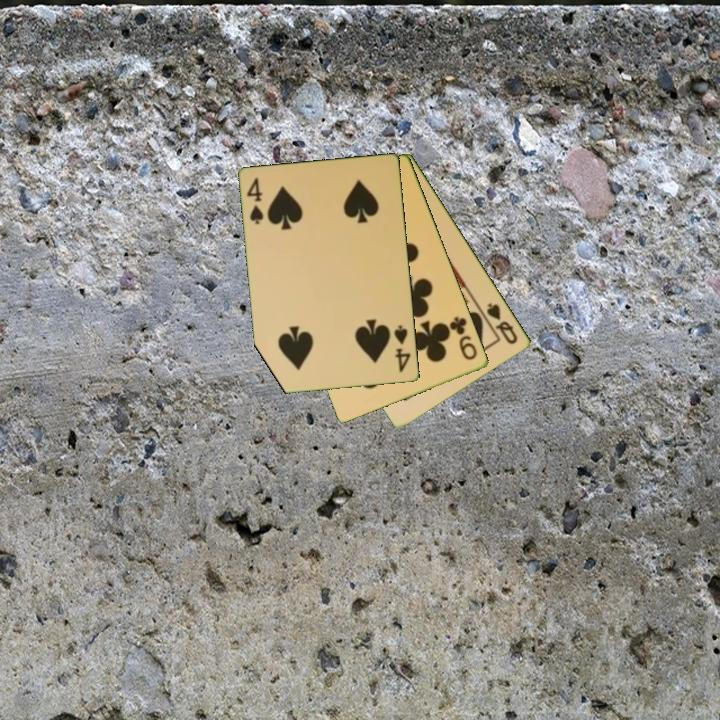4s: (391, 322, 414, 375), (244, 174, 267, 227)
9c: (446, 313, 480, 363)
Qs: (483, 299, 521, 347)
